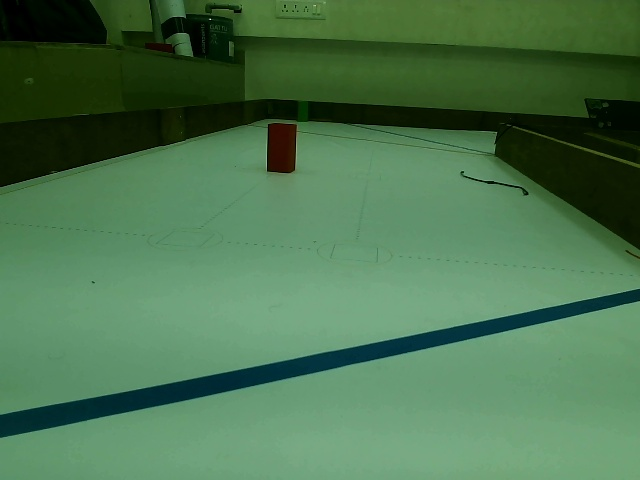red: (270, 124, 295, 168)
